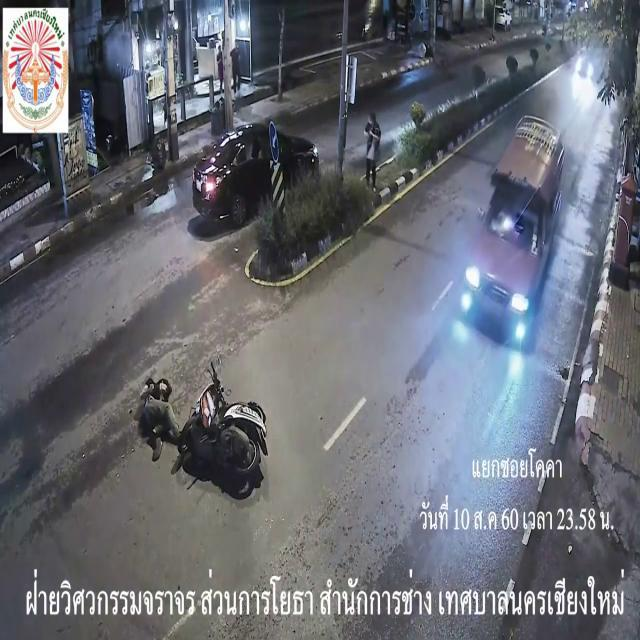normal: (462, 100, 562, 360), (189, 115, 325, 231)
single accident: (119, 353, 306, 495)
